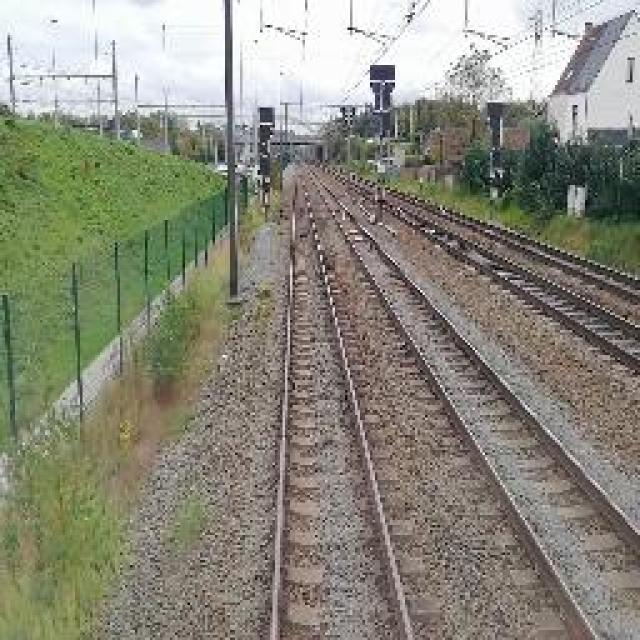rail: (244, 161, 454, 640)
